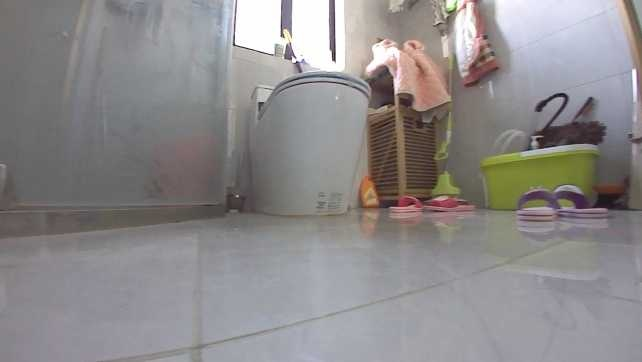slipper: (508, 175, 606, 224), (425, 192, 474, 213), (382, 190, 422, 213)
toilet: (244, 65, 375, 216)
